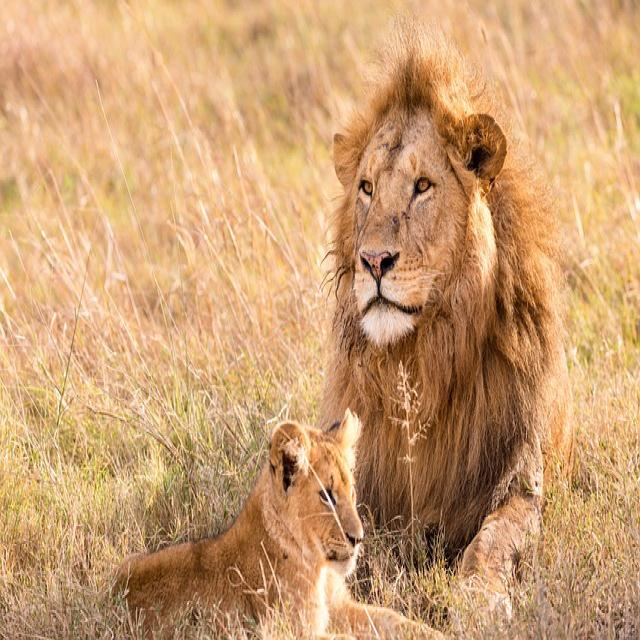Carnivorous: (321, 54, 571, 616), (113, 412, 417, 640)
